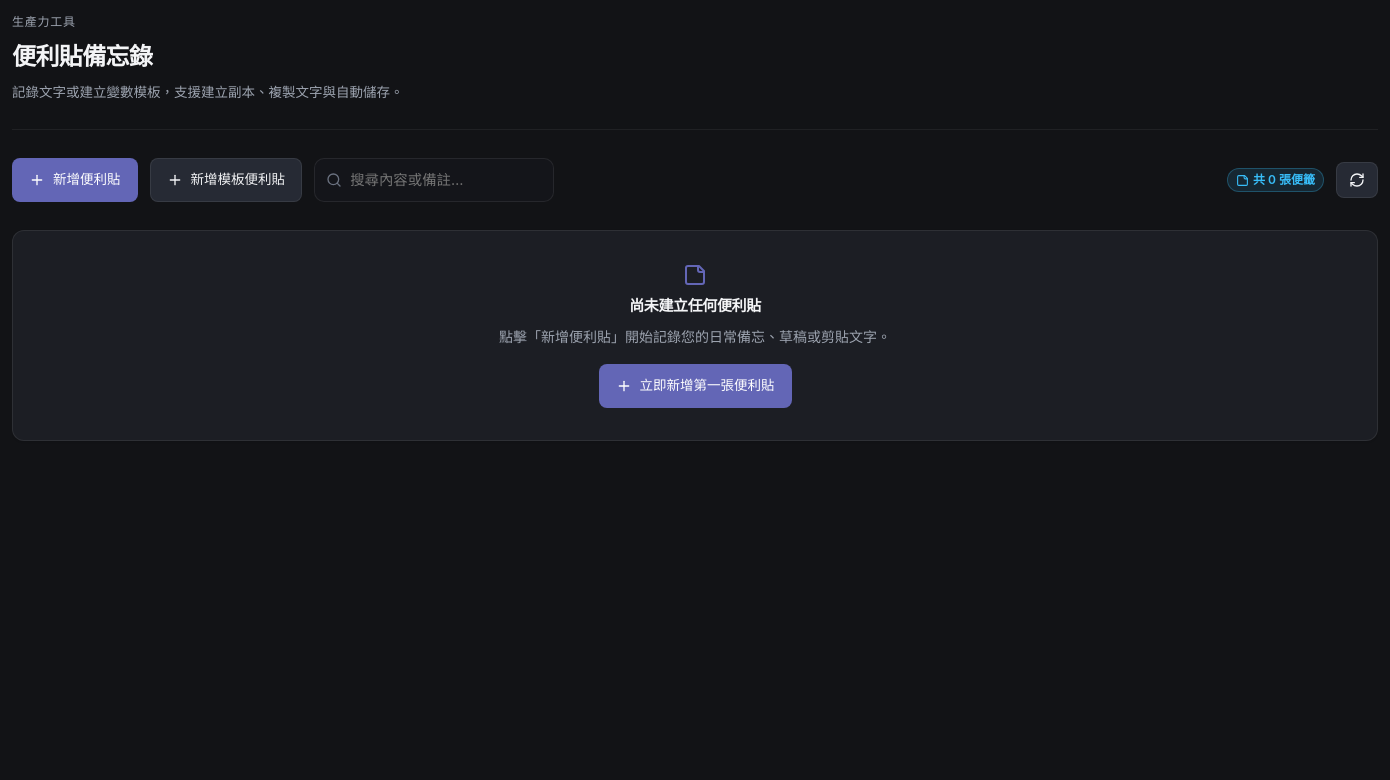
Test: StickyNotesPage › creates a template note with its own type and variable storage
Check: the heading "尚未建立任何便利貼" is shown, box [629,295,761,318]
Click the button "新增模板便利貼": [226, 180] box [150,158,302,202]
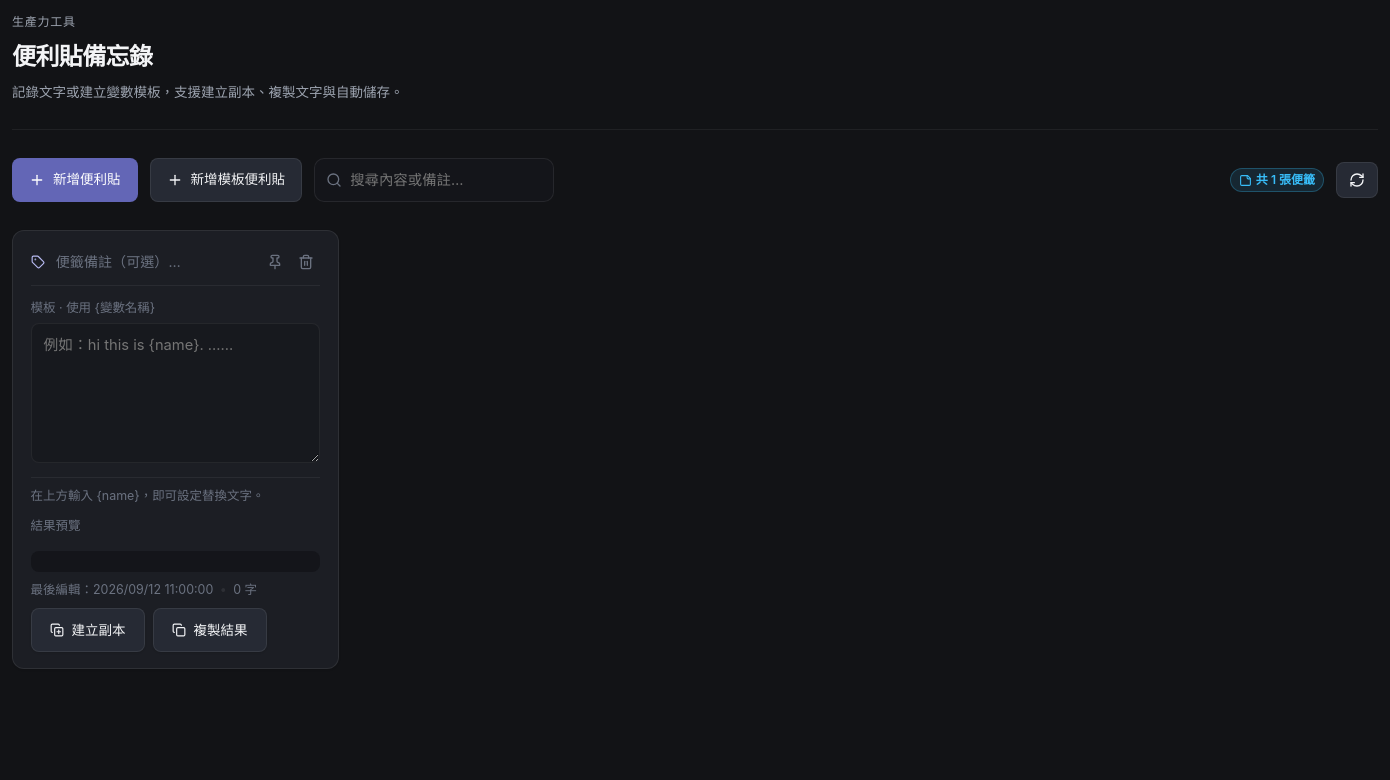
Check: the text box named "模板內容" is shown, box [31,323,320,463]
